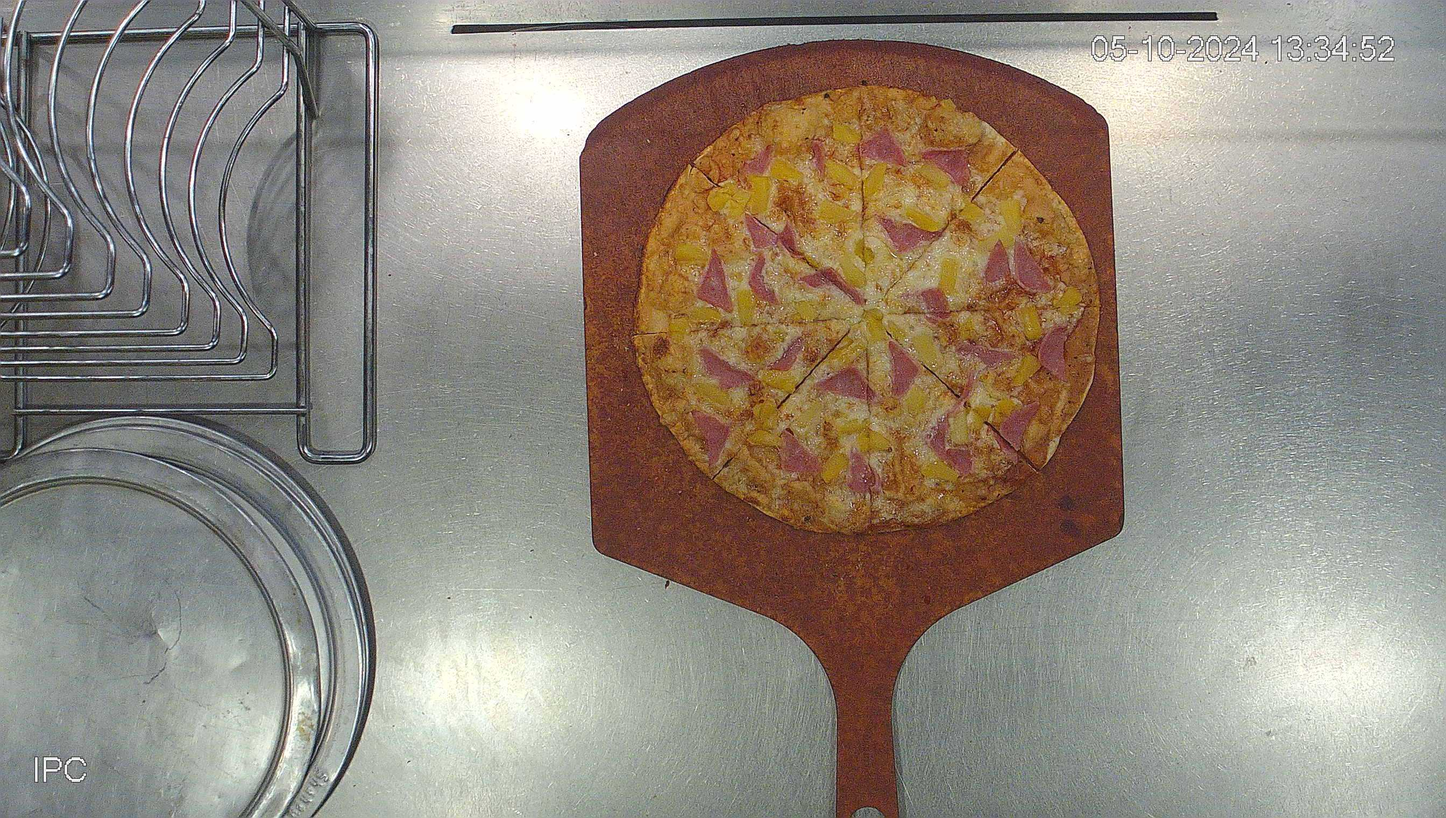manager_choice: (632, 83, 1101, 534)
